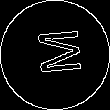M_W: (28, 30, 82, 80)
